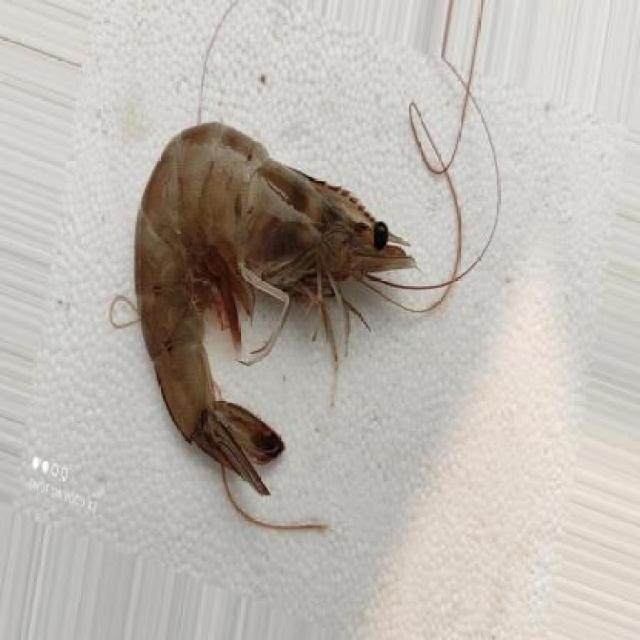shrimp: (128, 112, 424, 509)
